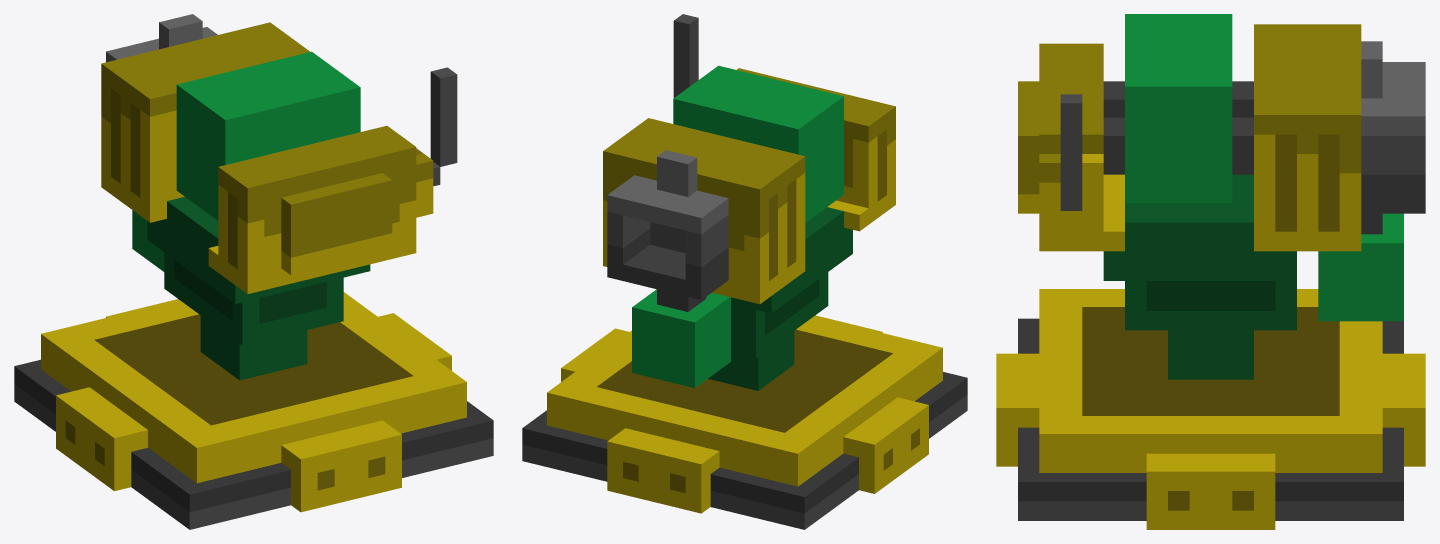
The model's file is Turret(Tower_Defens)-5.fbx.
3 renders of one model, left to right at view 1: azimuth 30°, elevation 25°; view 2: azimuth 150°, elevation 25°; view 3: azimuth 270°, elevation 25°, orthographic. The views are drawn at different scales.
Parts seen in each view (by area): view 1: Untitled, Untitled.001; view 2: Untitled, Untitled.001; view 3: Untitled, Untitled.001.
Boxes of the visible parts, <box> form: Untitled: <box>101,14,457,380</box>; Untitled.001: <box>14,292,493,529</box>; Untitled: <box>603,14,895,390</box>; Untitled.001: <box>522,315,967,529</box>; Untitled: <box>1018,14,1425,379</box>; Untitled.001: <box>996,289,1425,529</box>.
Bounding box in the file's own units: 2 × 2 × 2.1.
